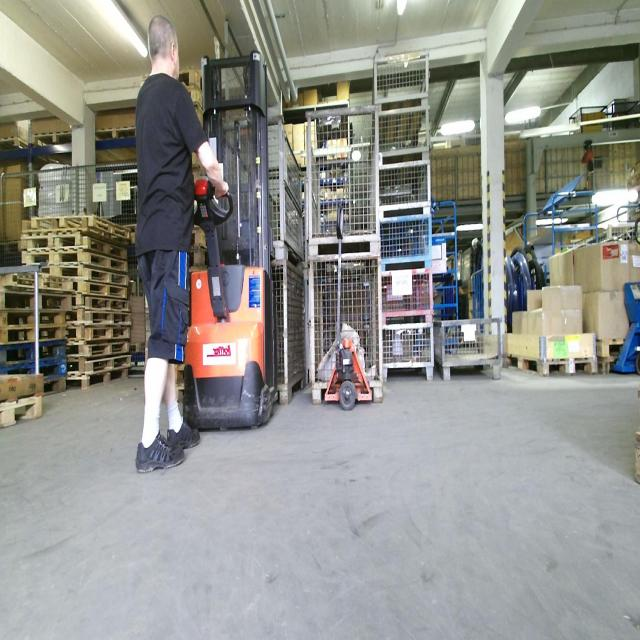pallet: (501, 352, 597, 382), (29, 244, 132, 271), (24, 228, 129, 252), (29, 213, 132, 237), (2, 398, 44, 437), (3, 342, 70, 366), (2, 292, 73, 313), (55, 265, 131, 284), (29, 128, 76, 154), (72, 337, 132, 357), (78, 292, 132, 313), (0, 313, 65, 329), (593, 334, 634, 358), (70, 280, 128, 296), (1, 329, 70, 342), (75, 370, 129, 385), (72, 357, 133, 370), (90, 127, 142, 142), (74, 324, 132, 337), (0, 134, 27, 161), (3, 366, 68, 377), (596, 361, 628, 379), (76, 313, 132, 322), (45, 377, 67, 396)
pallet_truck: (172, 49, 281, 431), (322, 202, 374, 408), (608, 282, 639, 379)
stillage: (216, 111, 307, 264), (306, 254, 386, 406), (306, 101, 376, 262), (265, 261, 309, 413), (434, 315, 506, 384), (368, 49, 429, 114), (376, 207, 434, 274), (376, 325, 435, 387), (373, 104, 430, 164), (373, 163, 434, 219), (377, 273, 436, 325)
